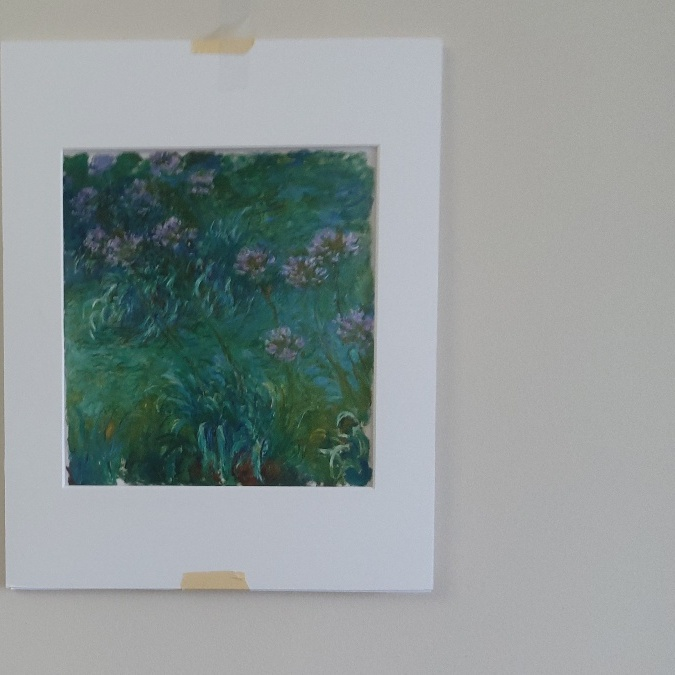painting: (53, 140, 389, 494)
